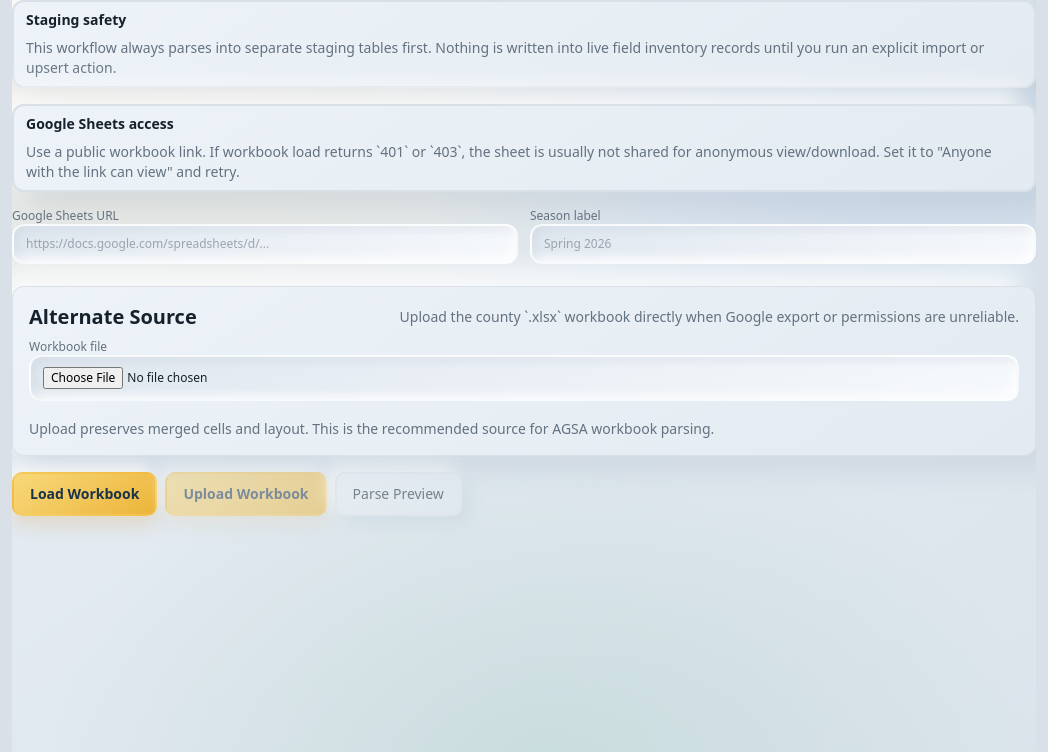
Test: FieldInventoryImportManager › shows backend request ids and response text for preview failures
The width and height of the screenshot is (1048, 752).
Type "https://docs.google.com/spreadsheets/d/test-sheet/edit#gid=0" into the field labelled "Google Sheets URL".
click(265, 244); type("https://docs.google.com/spreadsheets/d/test-sheet/edit#gid=0")  # box 12,224 -> 518,264
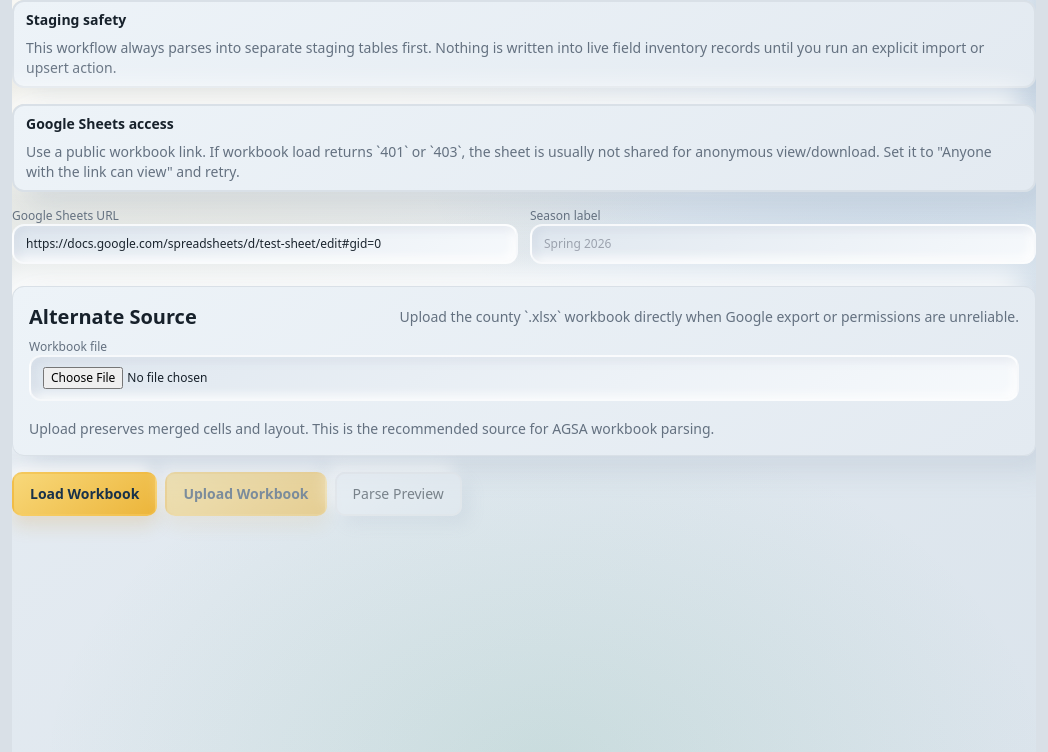
Click the button "Load Workbook".
click(85, 494)  # box 12,472 -> 157,516
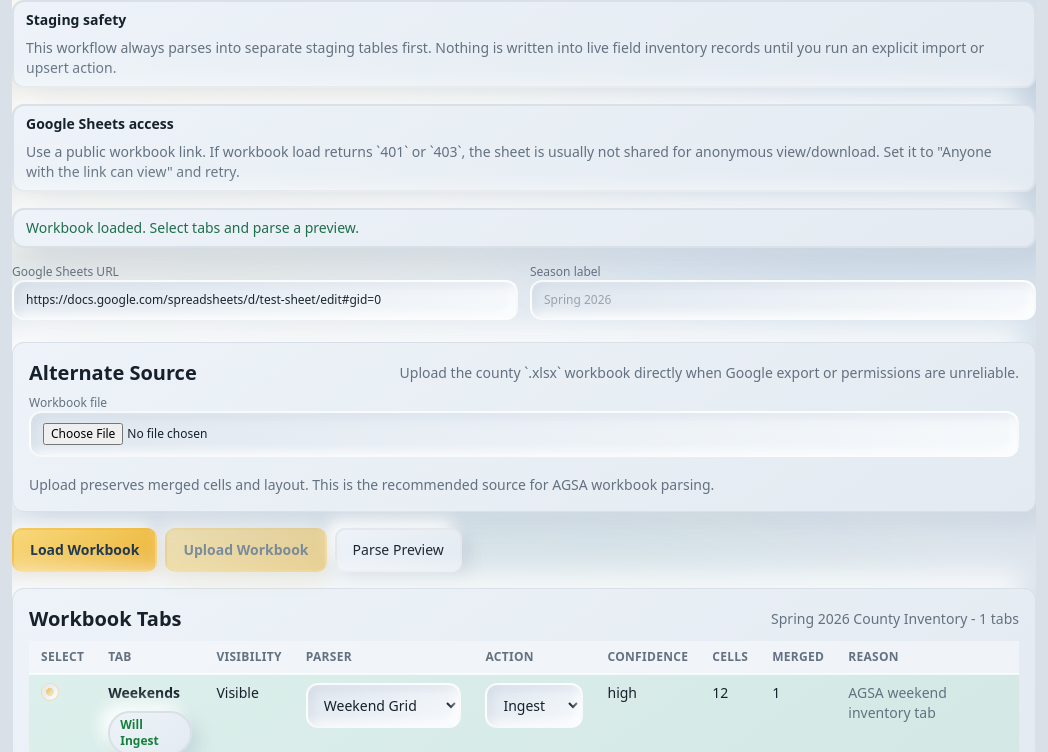
expect the text "Workbook loaded. Select tabs and parse a preview." is shown: met, box 12,208 -> 1036,248
Click the button "Parse Preview".
click(398, 550)  # box 335,528 -> 462,572
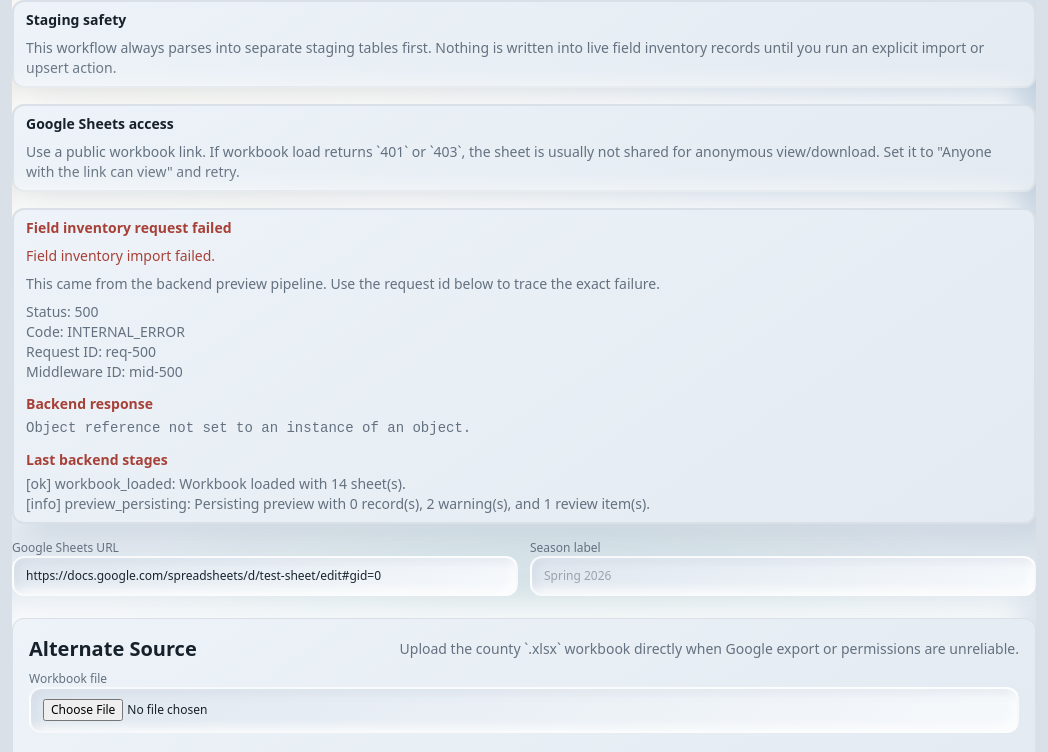
expect the text "Field inventory request failed" is shown: met, box 26,218 -> 232,237
expect the text "Request ID: req-500" is shown: met, box 26,342 -> 156,361
expect the text "Middleware ID: mid-500" is shown: met, box 26,362 -> 183,381
